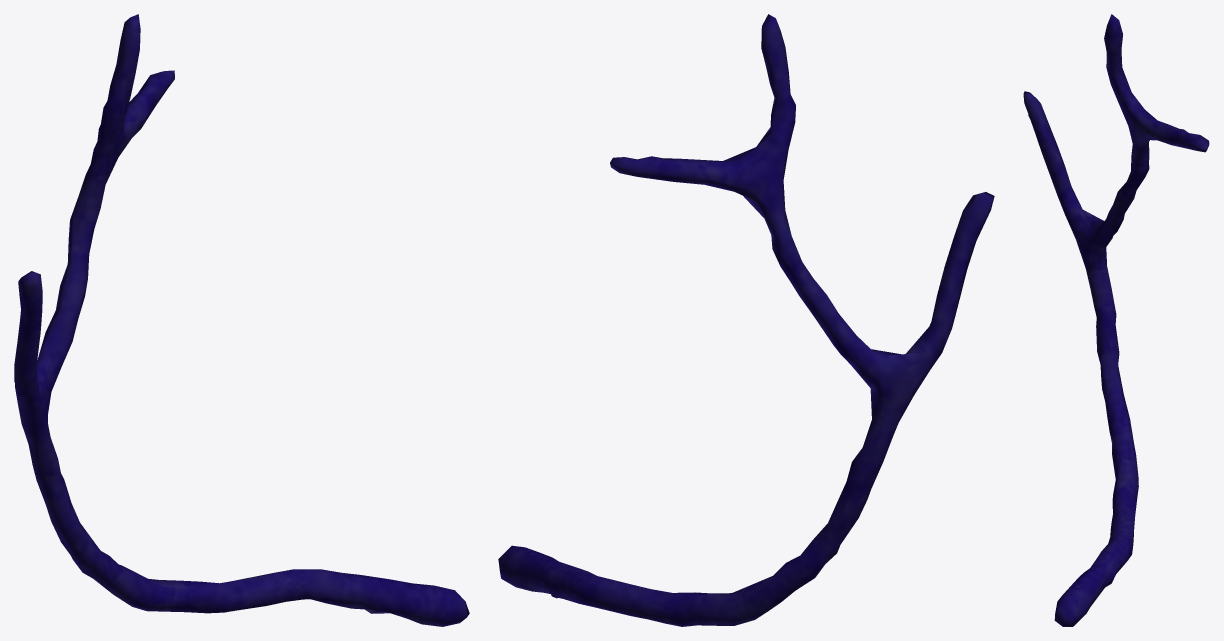
File: Vestibulocochlear_nerve_R.glb
3 renders of one model, left to right at view 1: azimuth 30°, elevation 25°; view 2: azimuth 150°, elevation 25°; view 3: azimuth 270°, elevation 25°, orthographic. The views are drawn at different scales.
Parts seen in each view (by area): view 1: Vestibulocochlear_nerve_R.001; view 2: Vestibulocochlear_nerve_R.001; view 3: Vestibulocochlear_nerve_R.001.
Part boxes in pixels (<box>): Vestibulocochlear_nerve_R.001: <box>14,14,469,626</box>; Vestibulocochlear_nerve_R.001: <box>498,14,994,626</box>; Vestibulocochlear_nerve_R.001: <box>1023,14,1209,626</box>.
Bounding box in the file's own units: 0.0523 × 0.0699 × 0.0234.
1 material, 1 textured.
